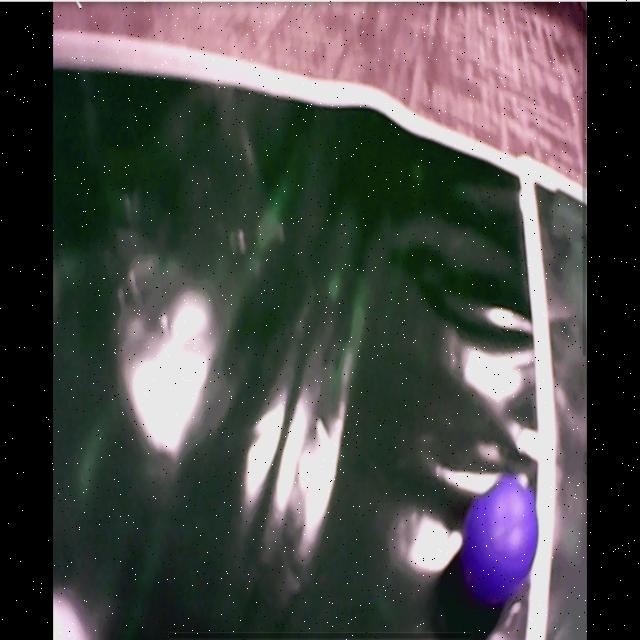ball: (463, 476, 540, 600)
